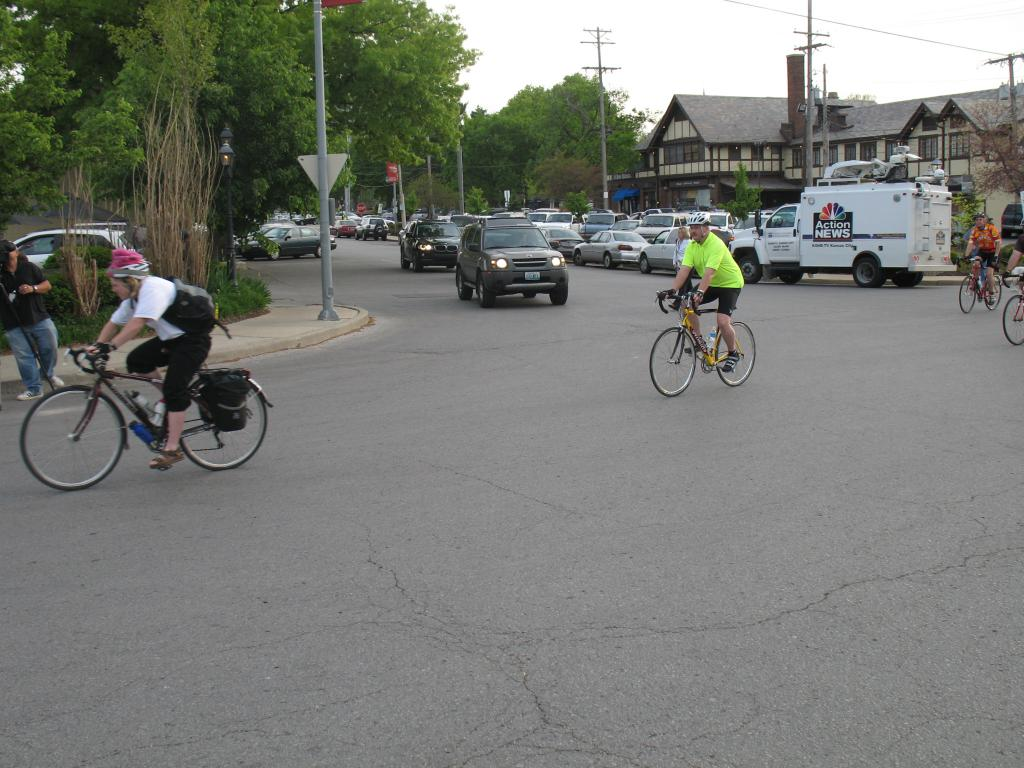Bike: (625, 296, 775, 415)
